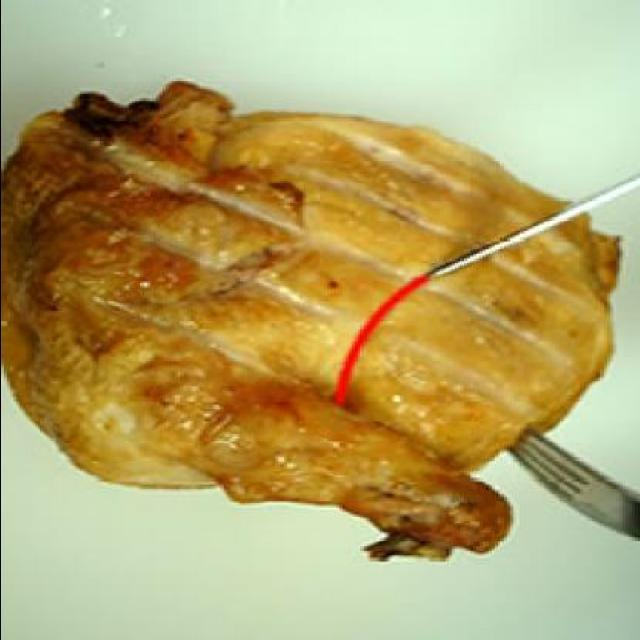Chicken roast: (3, 110, 634, 556)
